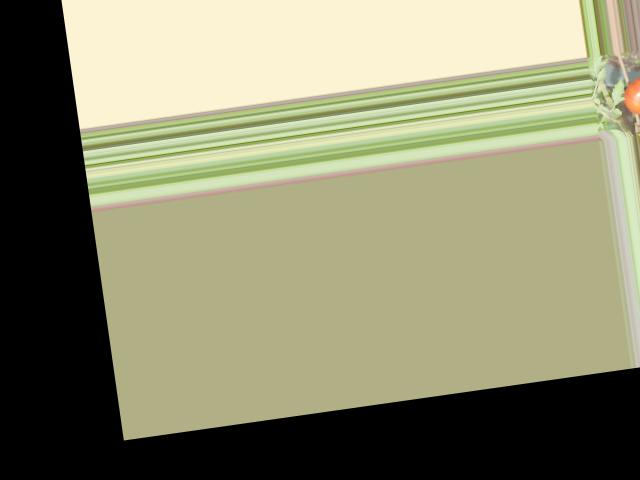tomato: (620, 75, 640, 116)
